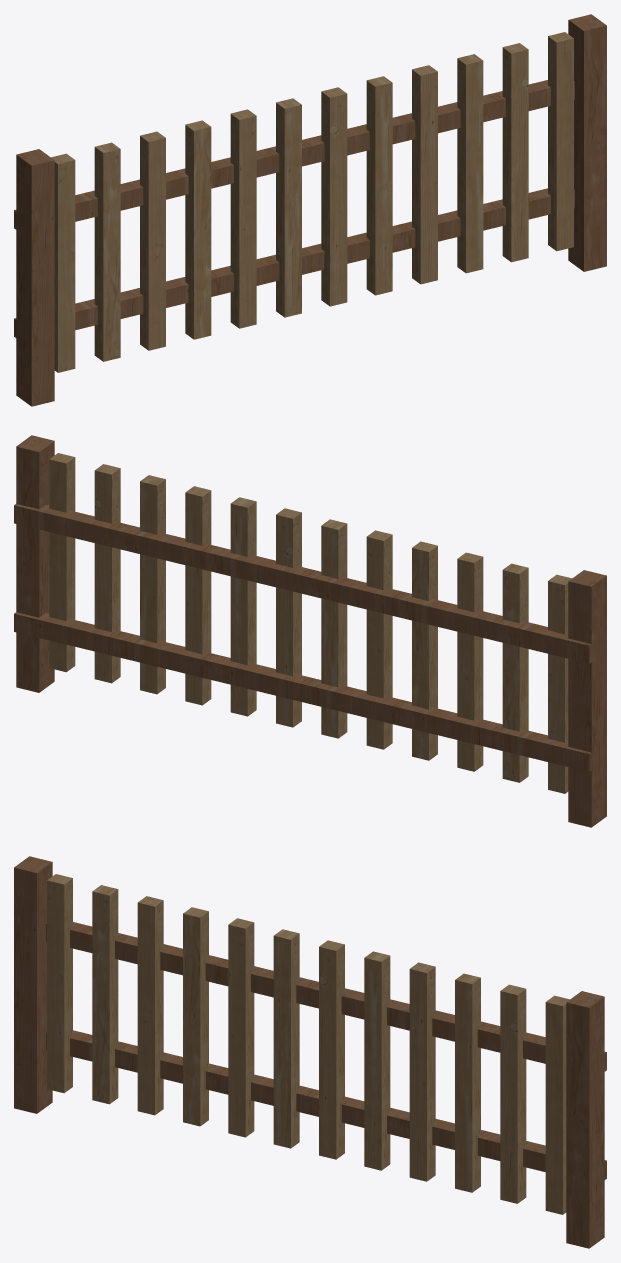
The model's file is build_fence.glb.
The picture shows the model from 3 angles, top to bottom: view 1: azimuth 30°, elevation 25°; view 2: azimuth 150°, elevation 25°; view 3: azimuth 330°, elevation 25°; orthographic projection.
Parts seen in each view (by area): view 1: fence; view 2: fence; view 3: fence.
Boxes of the visible parts, <box> form: fence: <box>14,14,606,406</box>; fence: <box>14,435,606,827</box>; fence: <box>14,856,606,1248</box>.
Size of the model in its own units: 3 by 1.2 by 0.16.
2 materials, 2 textured.
